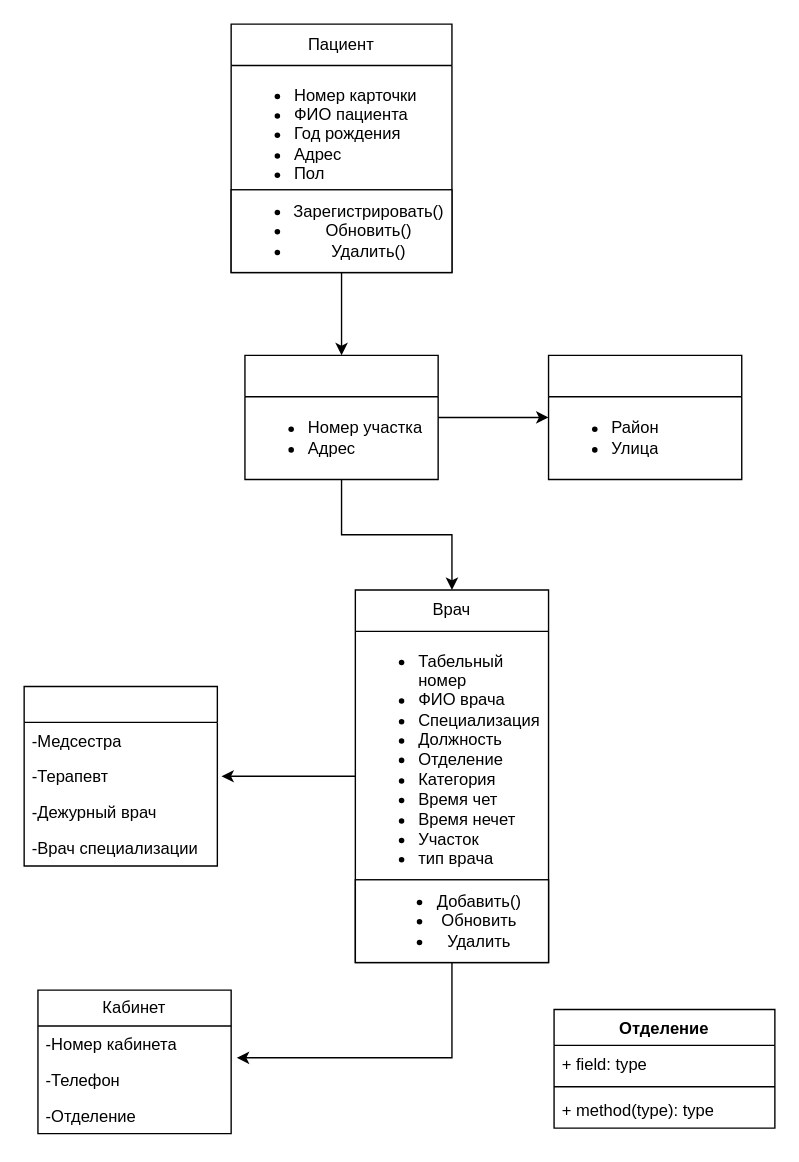
Some shapes in this 799 by 1162 pixel diagram are drawn without their labels. Each missing label, with the box of its shape:
<<enumeration>> Тип врача: (23, 685, 217, 866)
Адреса: (547, 354, 742, 480)
Участок: (244, 354, 438, 480)
